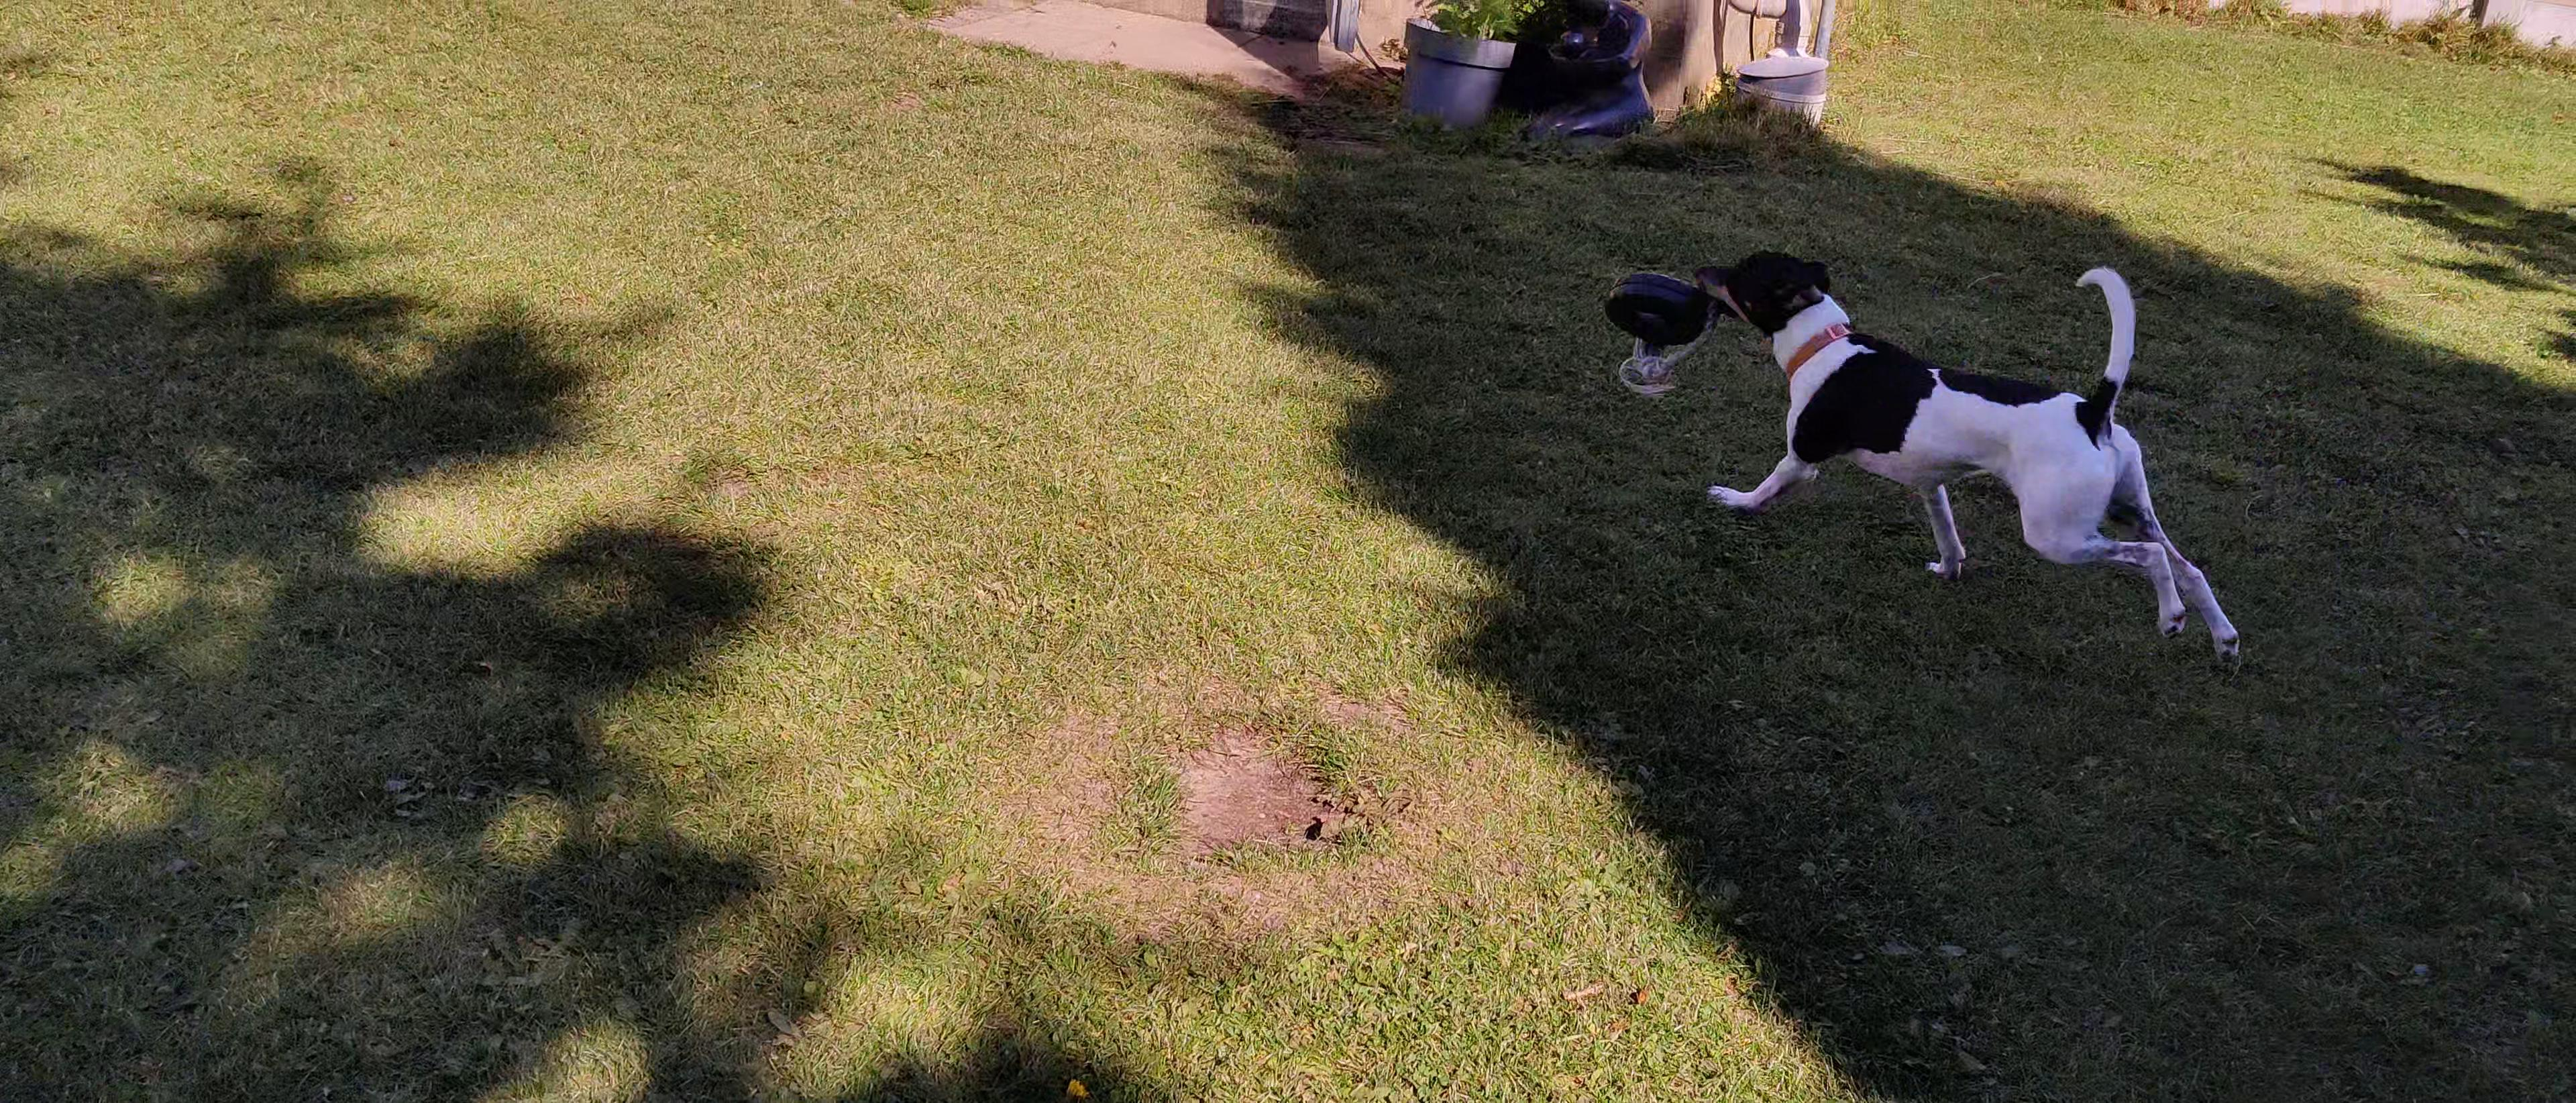Dog: (1690, 245, 2242, 664)
